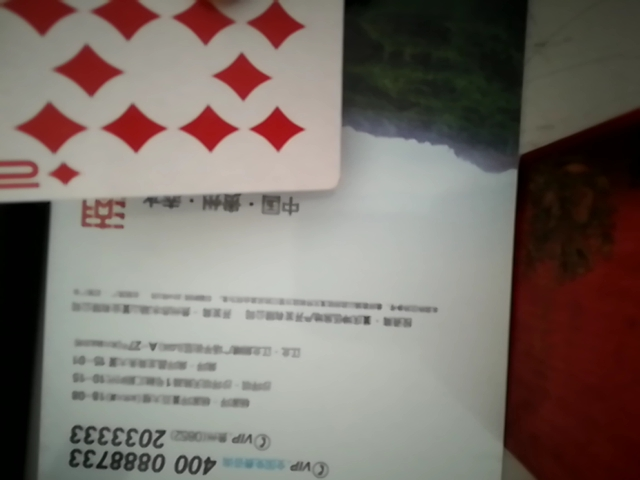fk 10: (1, 1, 350, 202)
